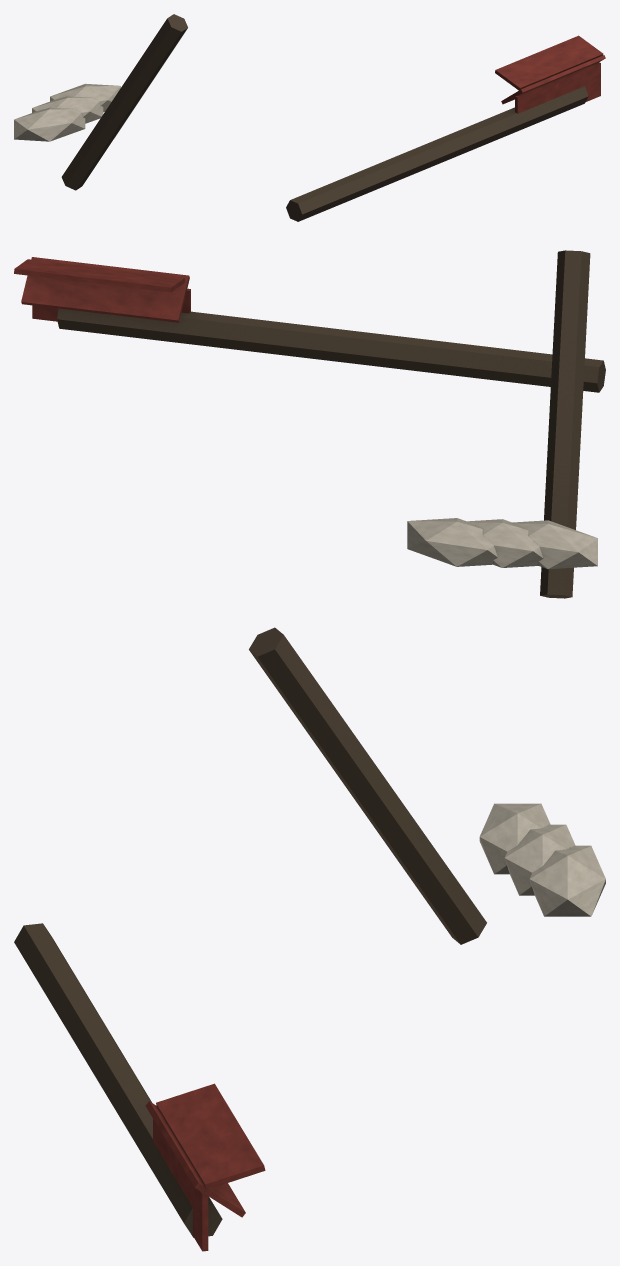
File: trace_typhon.glb
The picture shows the model from 3 angles, top to bottom: view 1: azimuth 30°, elevation 25°; view 2: azimuth 150°, elevation 25°; view 3: azimuth 270°, elevation 25°; orthographic projection. The views are drawn at different scales.
Parts seen in each view (by area): view 1: trace_typhon; view 2: trace_typhon; view 3: trace_typhon.
Part boxes in pixels (left/top/right/bottom): trace_typhon: left=14, top=14, right=605, bottom=221; trace_typhon: left=14, top=250, right=605, bottom=598; trace_typhon: left=14, top=627, right=605, bottom=1251.
Size of the model in its own units: 0.79 by 0.304 by 0.4742.
Materials: 3 (3 with a texture image).
